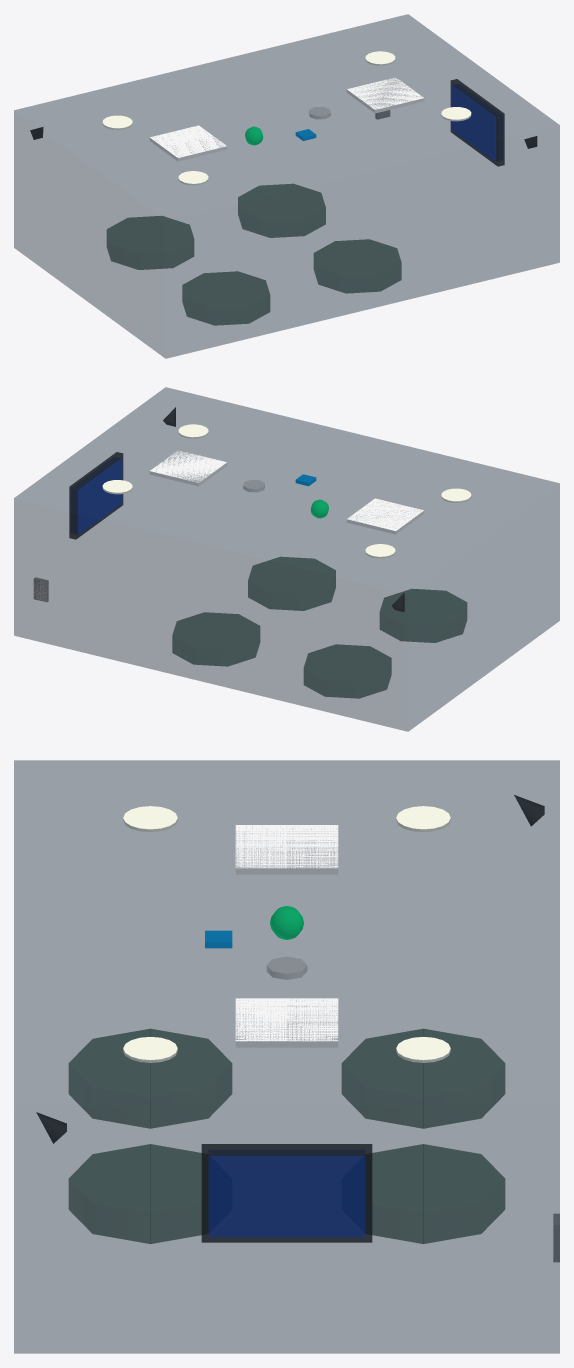
3 views of the same model, one above another, from view 1: azimuth 30°, elevation 25°; view 2: azimuth 150°, elevation 25°; view 3: azimuth 270°, elevation 25° (orthographic). The views are drawn at different scales.
Visible parts, largest first — view 1: Arch:WALL_L1-B1, object 4, object 3, object 5, object 2, object 6, object 7, Device:AC1_L1-B1, Device:AC2_L1-B1; view 2: Arch:WALL_L1-B1, object 5, object 2, object 4, object 3, object 6, object 7, Device:AC1_L1-B1, Device:AC2_L1-B1; view 3: Arch:WALL_L1-B1, object 6, object 7, object 2, object 3, object 4, object 5, Device:AC1_L1-B1, Device:AC2_L1-B1, Device:LIGHT1_L1-B1, Device:LIGHT3_L1-B1, Device:LIGHT2_L1-B1 (+3 smaller).
Part boxes in pixels (x1,y1,x2,y2): Arch:WALL_L1-B1: [14, 14, 559, 358]; object 4: [238, 184, 325, 237]; object 3: [182, 271, 269, 325]; object 5: [314, 239, 401, 293]; object 2: [107, 216, 193, 269]; object 6: [450, 79, 504, 166]; object 7: [452, 85, 495, 161]; Device:AC1_L1-B1: [149, 125, 227, 161]; Device:AC2_L1-B1: [346, 77, 424, 113]; Arch:WALL_L1-B1: [14, 387, 559, 731]; object 5: [248, 557, 335, 610]; object 2: [304, 644, 391, 698]; object 4: [172, 612, 259, 666]; object 3: [380, 589, 466, 642]; object 6: [69, 452, 123, 539]; object 7: [78, 458, 121, 534]; Device:AC1_L1-B1: [346, 498, 424, 534]; Device:AC2_L1-B1: [149, 450, 227, 486]; Arch:WALL_L1-B1: [14, 760, 559, 1353]; object 6: [201, 1144, 372, 1242]; object 7: [209, 1156, 364, 1236]; object 2: [342, 1029, 504, 1128]; object 3: [69, 1029, 231, 1128]; object 4: [372, 1144, 504, 1243]; object 5: [69, 1144, 201, 1243]; Device:AC1_L1-B1: [235, 825, 338, 874]; Device:AC2_L1-B1: [235, 998, 338, 1047]; Device:LIGHT1_L1-B1: [396, 806, 450, 832]; Device:LIGHT3_L1-B1: [123, 806, 177, 832]; Device:LIGHT2_L1-B1: [396, 1037, 450, 1062].
Size of the model in its own units: 12 by 4.01 by 8.
